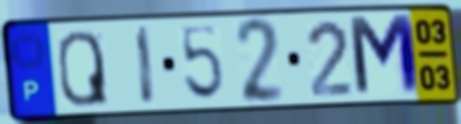2: (233, 13, 287, 110), (303, 18, 356, 100)
5: (178, 22, 228, 103)
I: (134, 23, 158, 108)
M: (344, 11, 424, 100)
Q: (55, 28, 112, 109)
